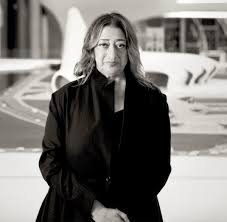middle_eastern_Female: (90, 24, 137, 77)
